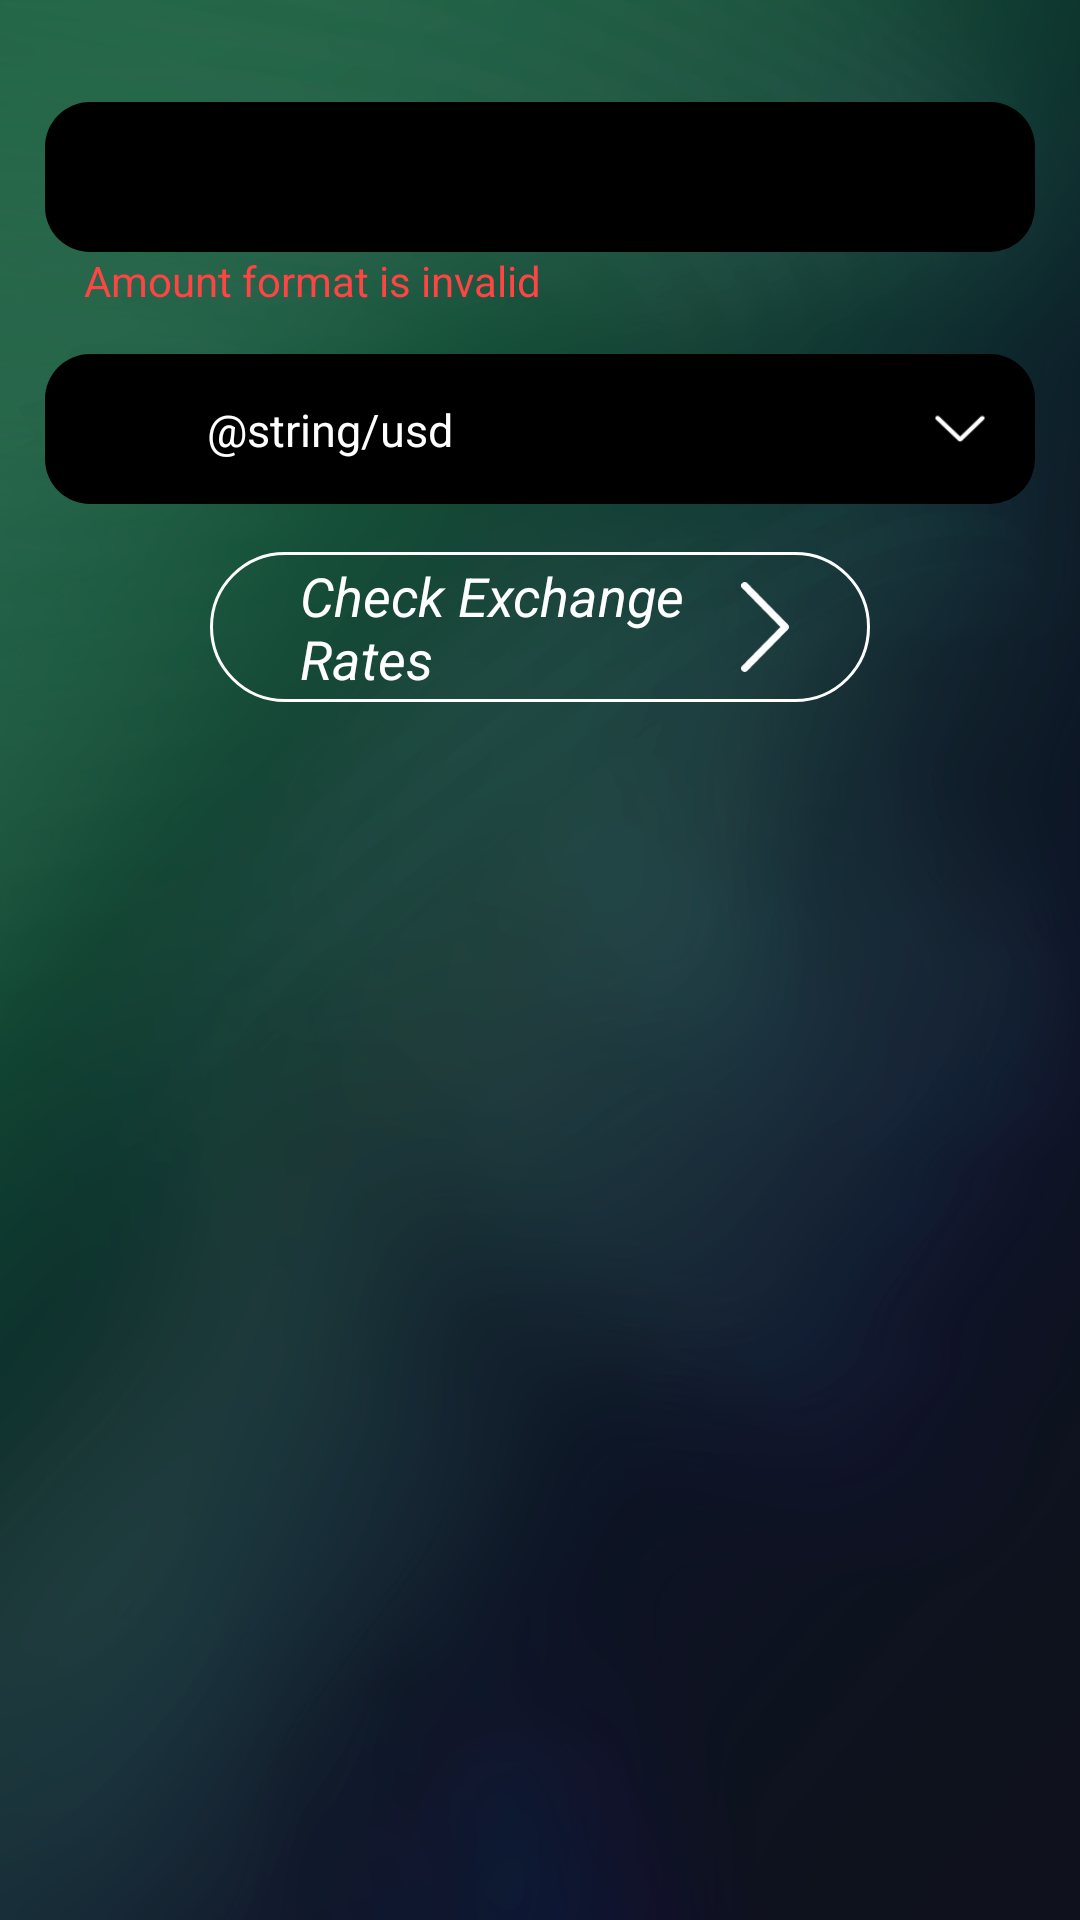

Named icons in this screenshot (1080 × 1920) and their bounding boxes, {"x1": x1, "y1": y1, "x2": x2, "y2": y2}:
collapsedown: {"x1": 935, "y1": 415, "x2": 985, "y2": 442}
right arrow: {"x1": 741, "y1": 582, "x2": 789, "y2": 672}
